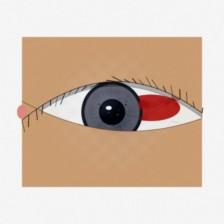hemorrhage_spot: (111, 76, 191, 140)
